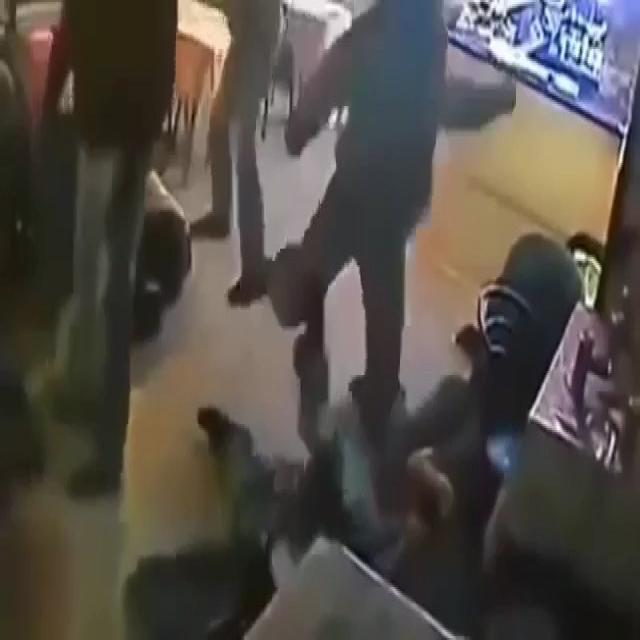fight: (252, 0, 448, 612)
